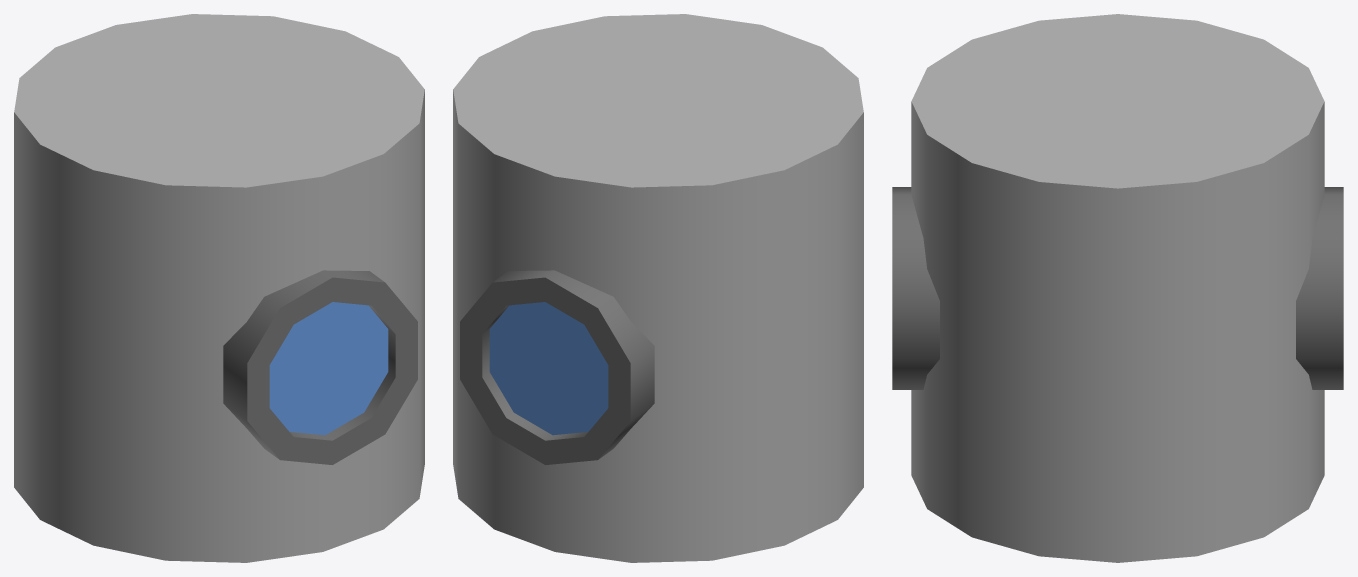
The model's file is Rocket Module.fbx.
3 renders of one model, left to right at view 1: azimuth 30°, elevation 25°; view 2: azimuth 150°, elevation 25°; view 3: azimuth 270°, elevation 25°, orthographic.
Visible parts, largest first — view 1: Rocket Module; view 2: Rocket Module; view 3: Rocket Module.
Part boxes in pixels (x1,y1,x2,y2): Rocket Module: [14, 14, 424, 562]; Rocket Module: [453, 14, 863, 562]; Rocket Module: [892, 14, 1343, 562].
Bounding box in the file's own units: 2 × 2 × 2.19.
